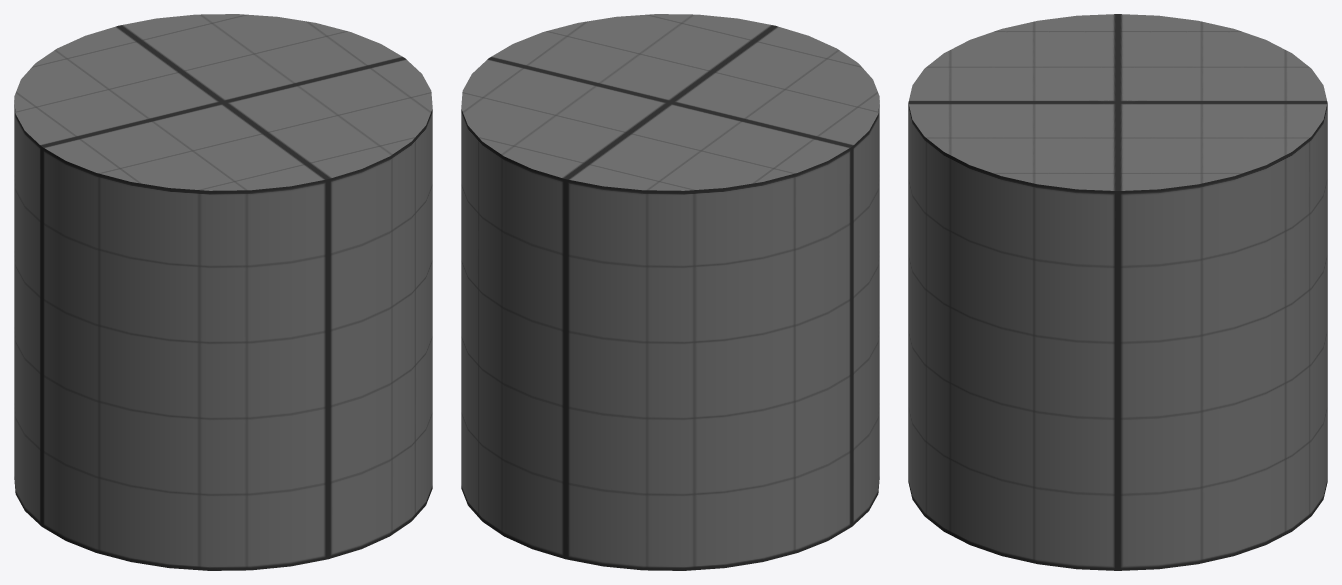
3 views of the same model, side by side, from view 1: azimuth 30°, elevation 25°; view 2: azimuth 150°, elevation 25°; view 3: azimuth 270°, elevation 25° (orthographic).
Parts seen in each view (by area): view 1: SM_Cylinder; view 2: SM_Cylinder; view 3: SM_Cylinder.
Boxes of the visible parts, x1,y1,x2,y2 form: SM_Cylinder: (14,14,432,570); SM_Cylinder: (461,14,879,570); SM_Cylinder: (908,14,1327,570).
Bounding box in the file's own units: 1 × 1 × 1.
1 material, 1 textured.
